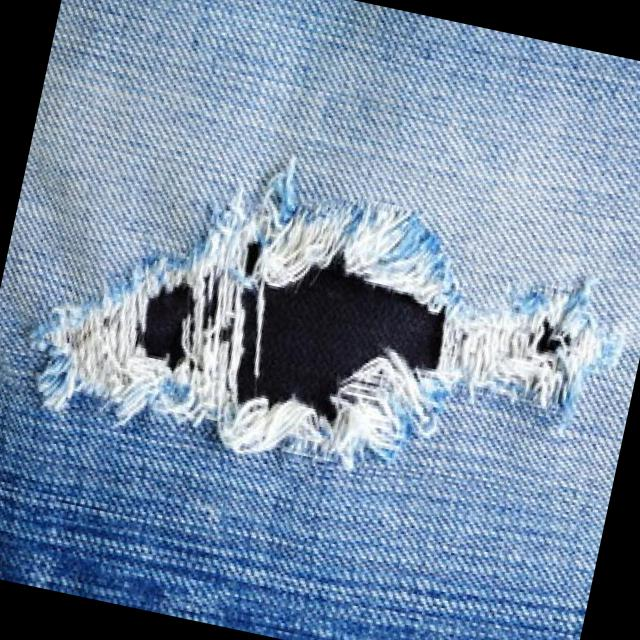hole: (21, 120, 640, 526)
